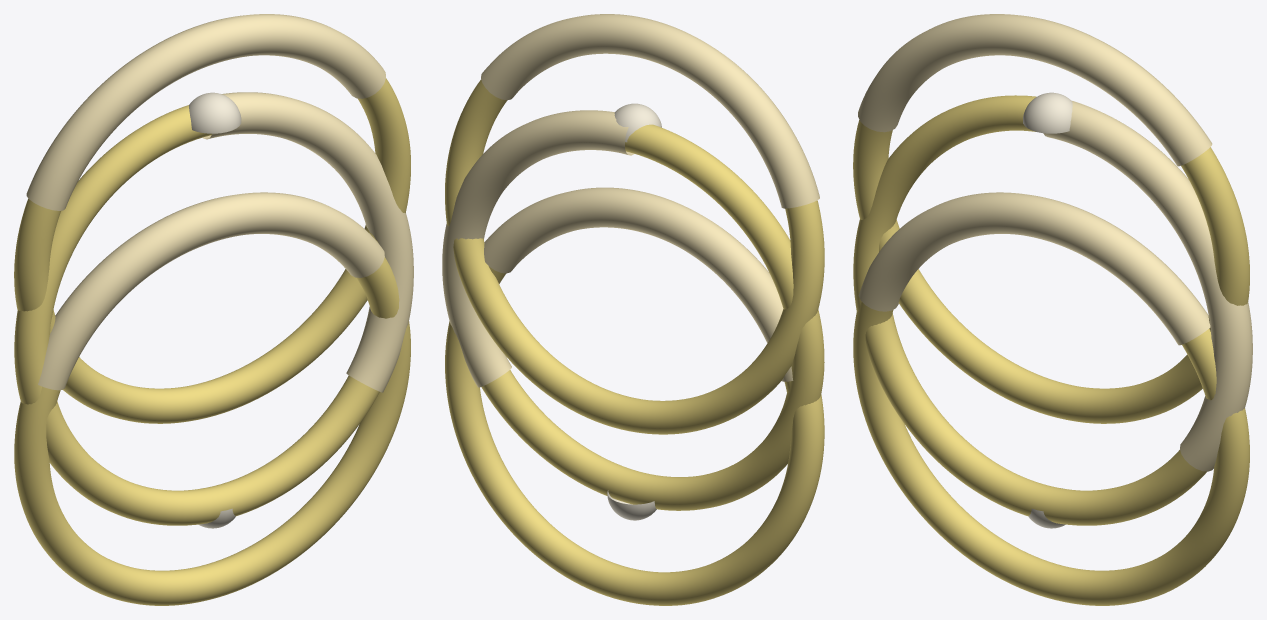
File: triveni-bangle-trio.glb
3 views of the same model, side by side, from view 1: azimuth 30°, elevation 25°; view 2: azimuth 150°, elevation 25°; view 3: azimuth 330°, elevation 25° (orthographic). The views are drawn at different scales.
Visible parts, largest first — view 1: triveni-bangle-trio; view 2: triveni-bangle-trio; view 3: triveni-bangle-trio.
Part boxes in pixels (x1=…): triveni-bangle-trio: x1=14, y1=14, x2=413, y2=605; triveni-bangle-trio: x1=442, y1=14, x2=824, y2=605; triveni-bangle-trio: x1=853, y1=14, x2=1252, y2=605.
Size of the model in its own units: 2.08 by 2.98 by 0.365.
